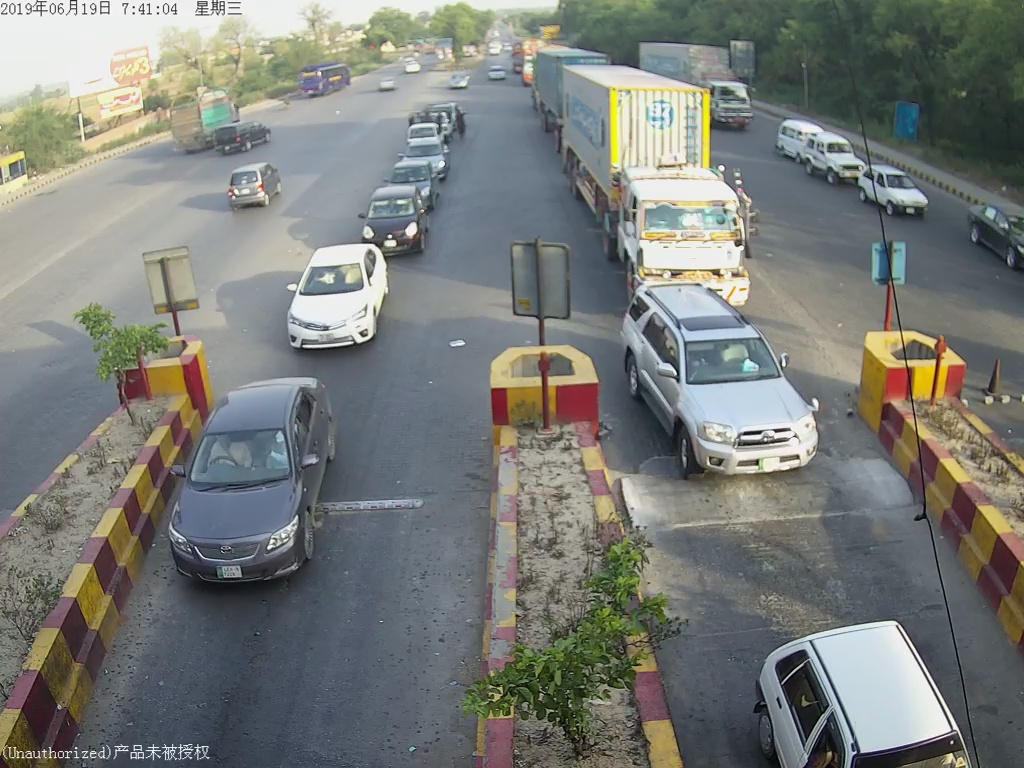Cat-1: (617, 285, 816, 480), (160, 388, 336, 580), (275, 251, 395, 349), (365, 186, 424, 249)
Cat-5: (561, 70, 768, 281)
